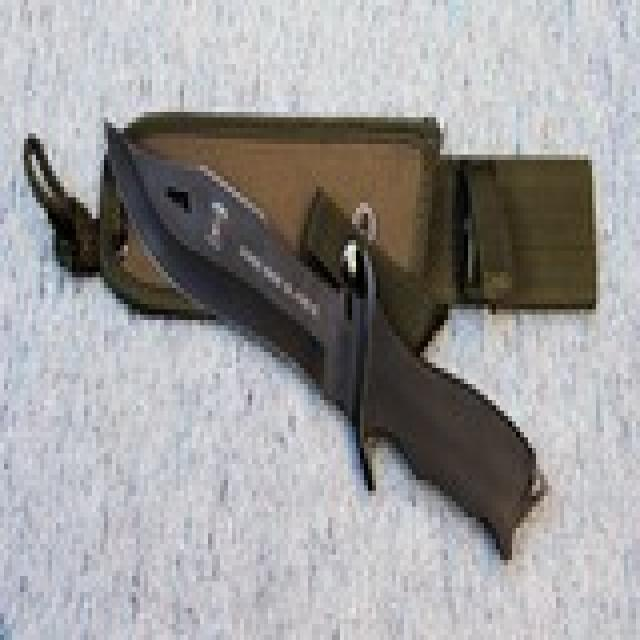Knife: (86, 98, 555, 568)
